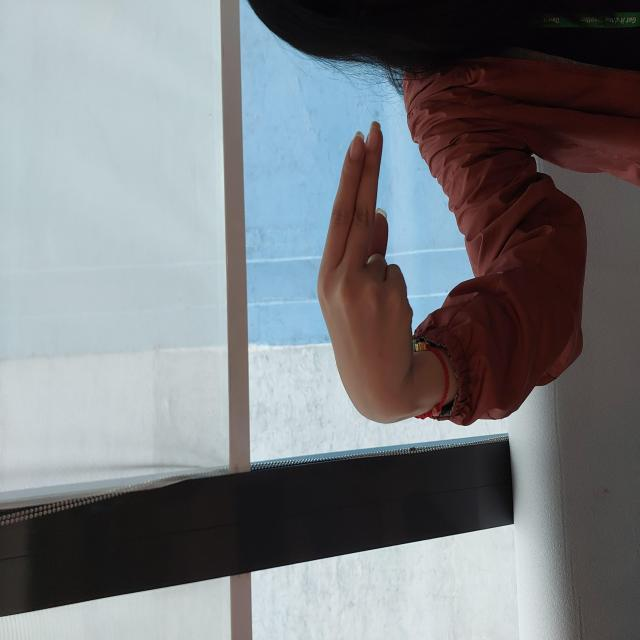H: (215, 315, 522, 413)
